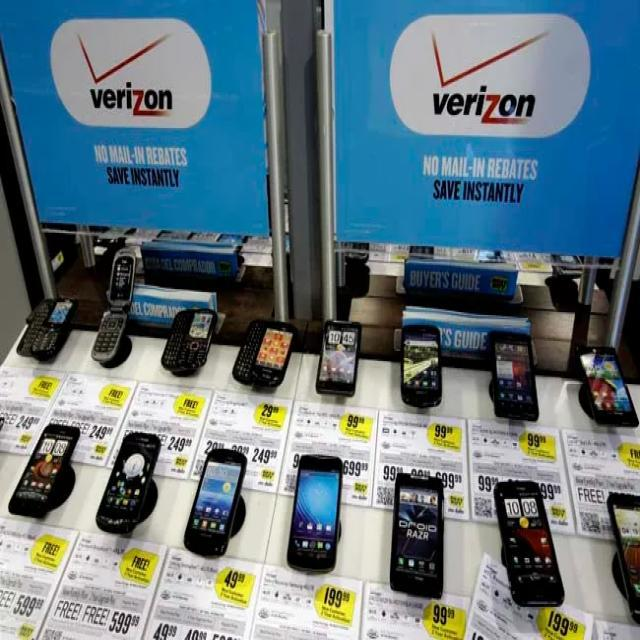phone: (486, 479, 572, 613), (383, 473, 450, 598), (187, 452, 253, 576), (284, 450, 342, 568), (18, 422, 78, 526), (102, 424, 152, 546), (568, 346, 638, 432), (486, 326, 544, 421), (388, 322, 449, 407), (603, 482, 640, 613), (238, 313, 297, 393), (162, 302, 220, 377), (20, 290, 80, 354), (310, 314, 356, 394), (98, 251, 128, 371)
